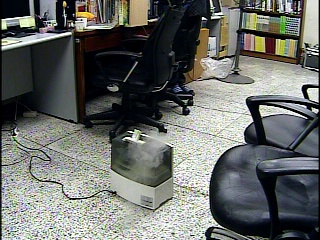smoke: (120, 124, 171, 178)
